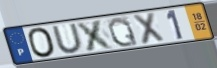1: (165, 9, 185, 42)
O: (26, 26, 58, 59)
Q: (106, 16, 140, 48)
U: (50, 22, 86, 55)
X: (74, 18, 117, 53), (130, 10, 167, 46)
